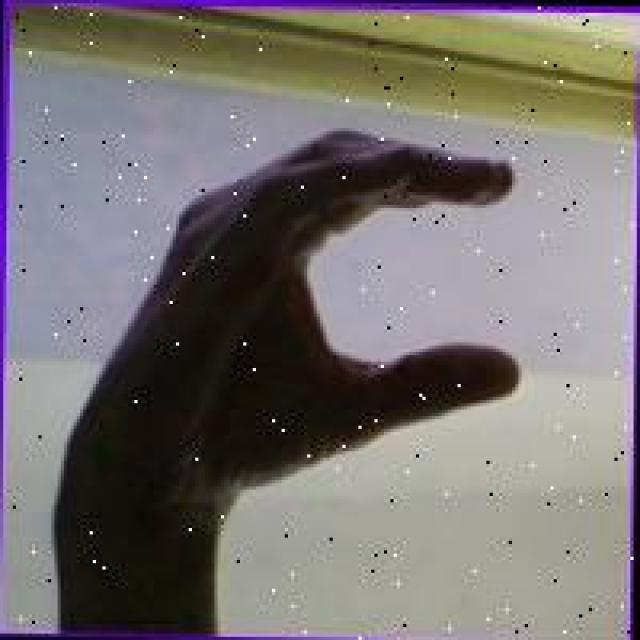C: (54, 118, 532, 528)
